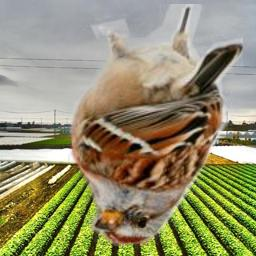Sparrow: (68, 4, 243, 246)
